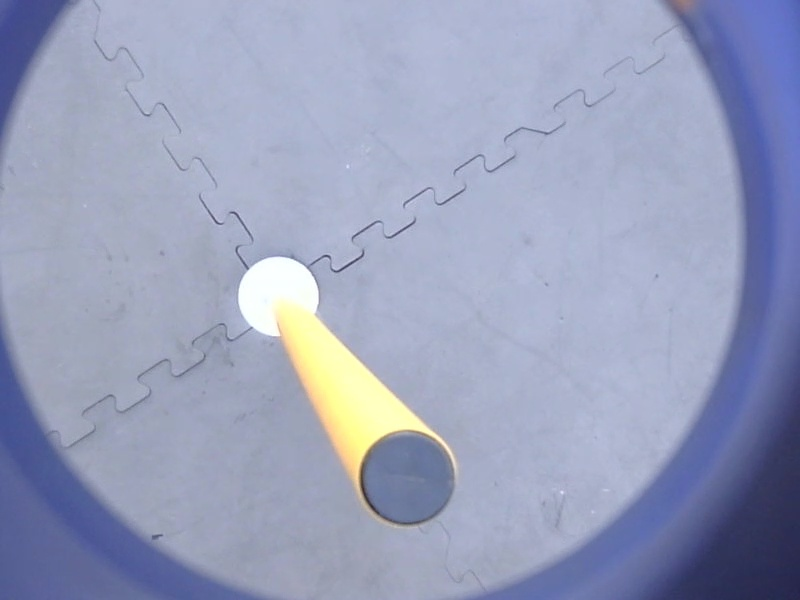tip: (350, 423, 462, 534)
